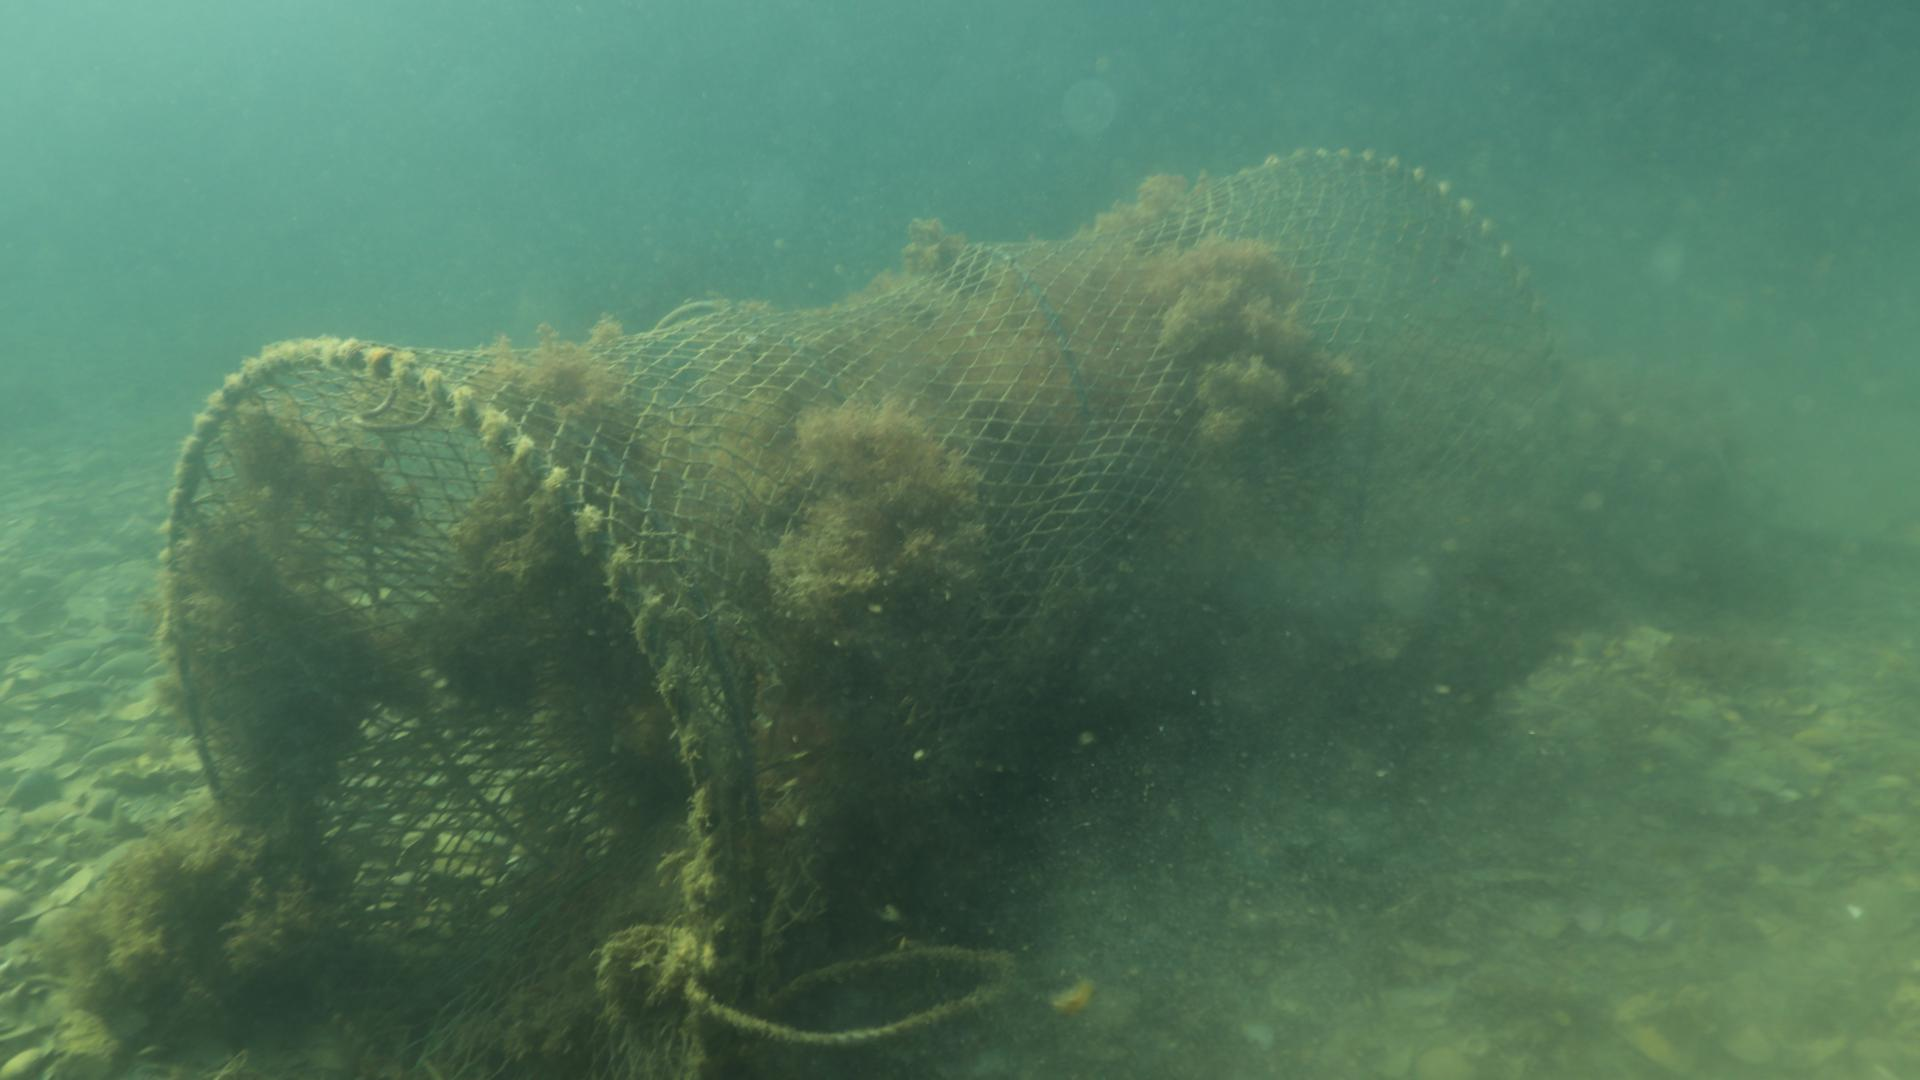spring fish trap: (164, 144, 1557, 1080)
